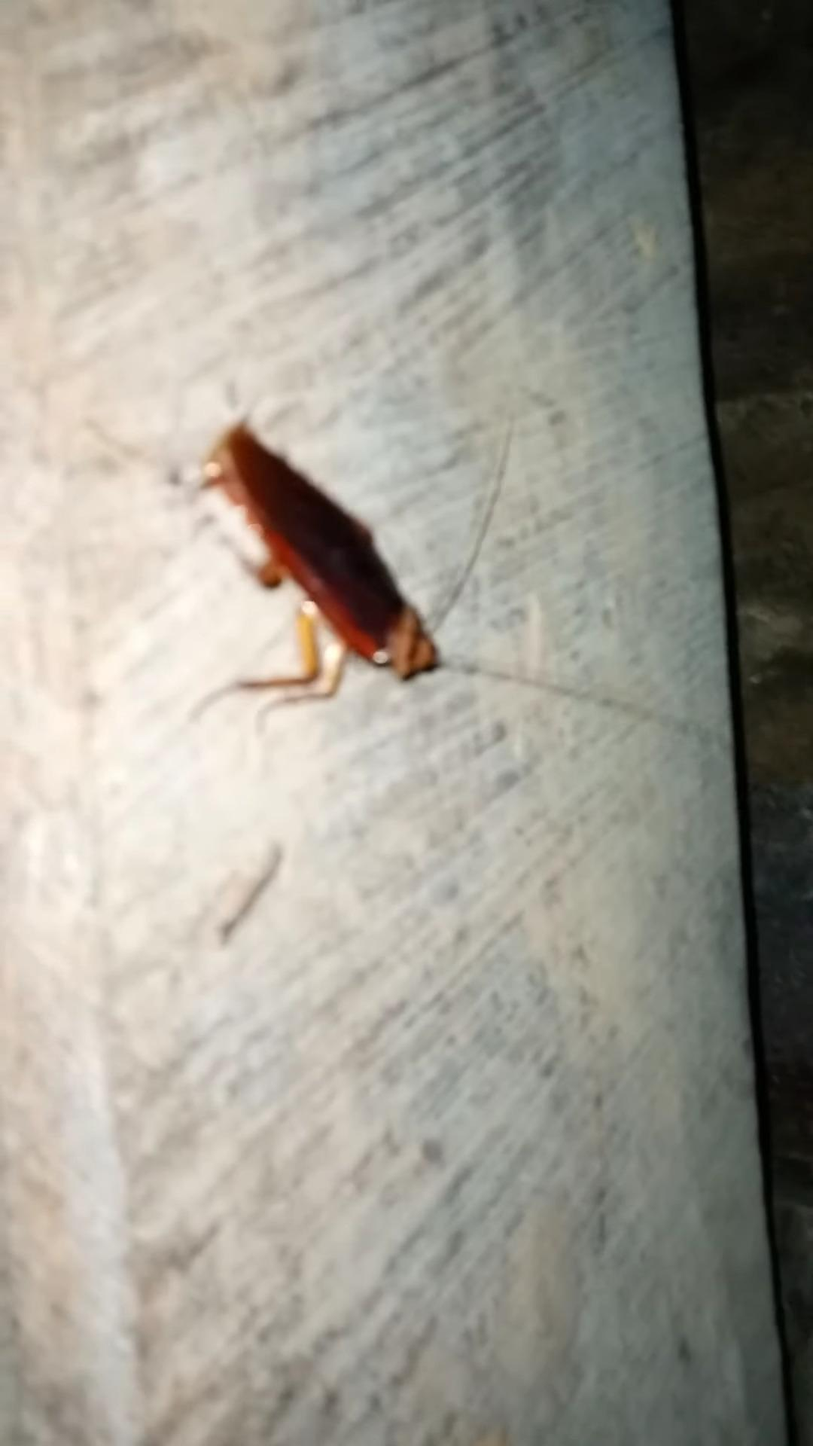cockroach: (69, 355, 688, 754)
